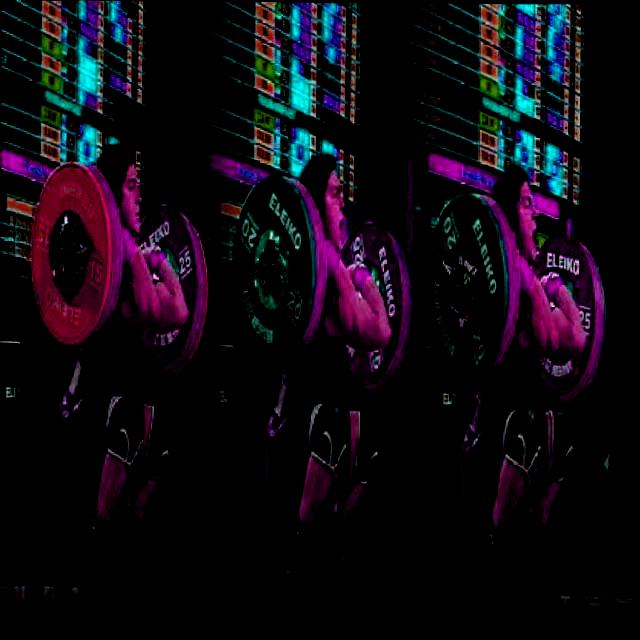barbell: (420, 187, 515, 387), (25, 158, 115, 352), (230, 170, 311, 370)
